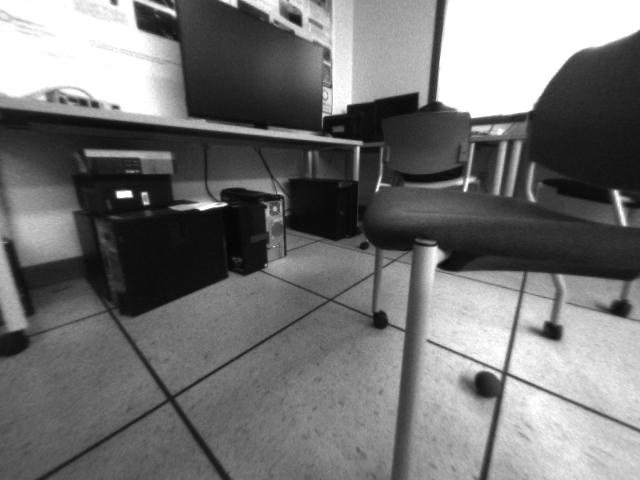dogtoy: (469, 364, 508, 404)
